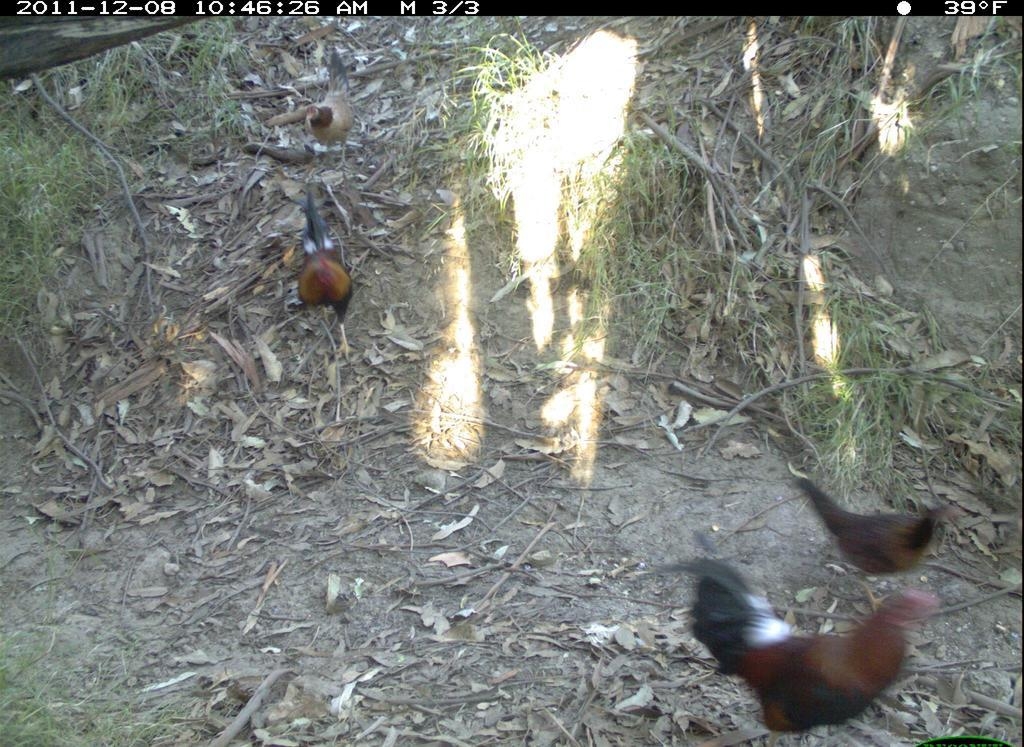bird: (661, 543, 949, 745), (788, 455, 969, 624), (293, 194, 362, 368), (301, 40, 365, 178)
